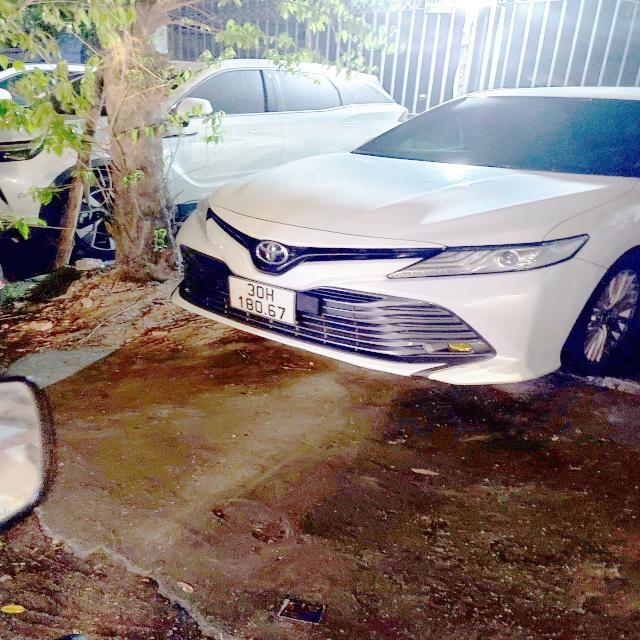license_plate: (228, 276, 302, 327)
